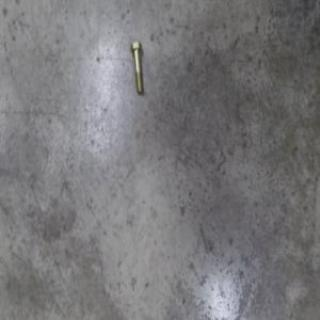Bolttrack_idkeyframe: (130, 40, 144, 92)
